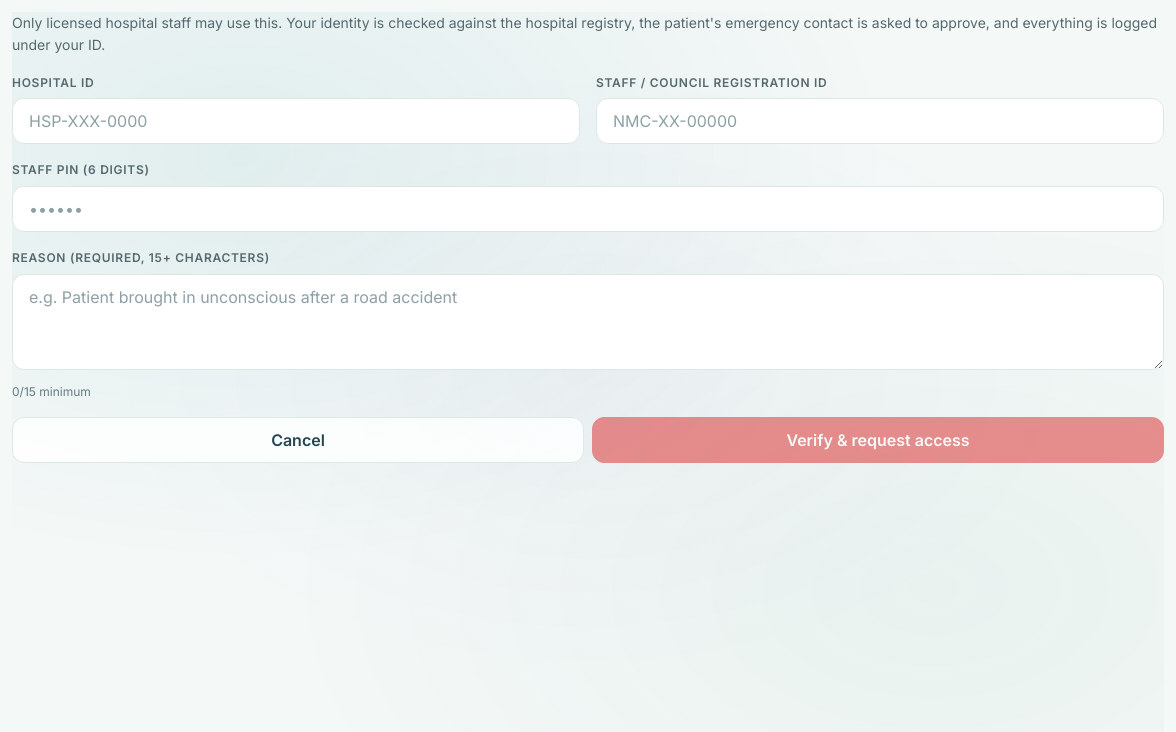
Test: Level 3 override panel › waits for the contact, then hands over the Level 3 session
This screenshot has width=1176, height=732.
Type "HSP-DEL-0001" into the field labelled "Hospital ID" at (296,121), box [12, 98, 580, 144]
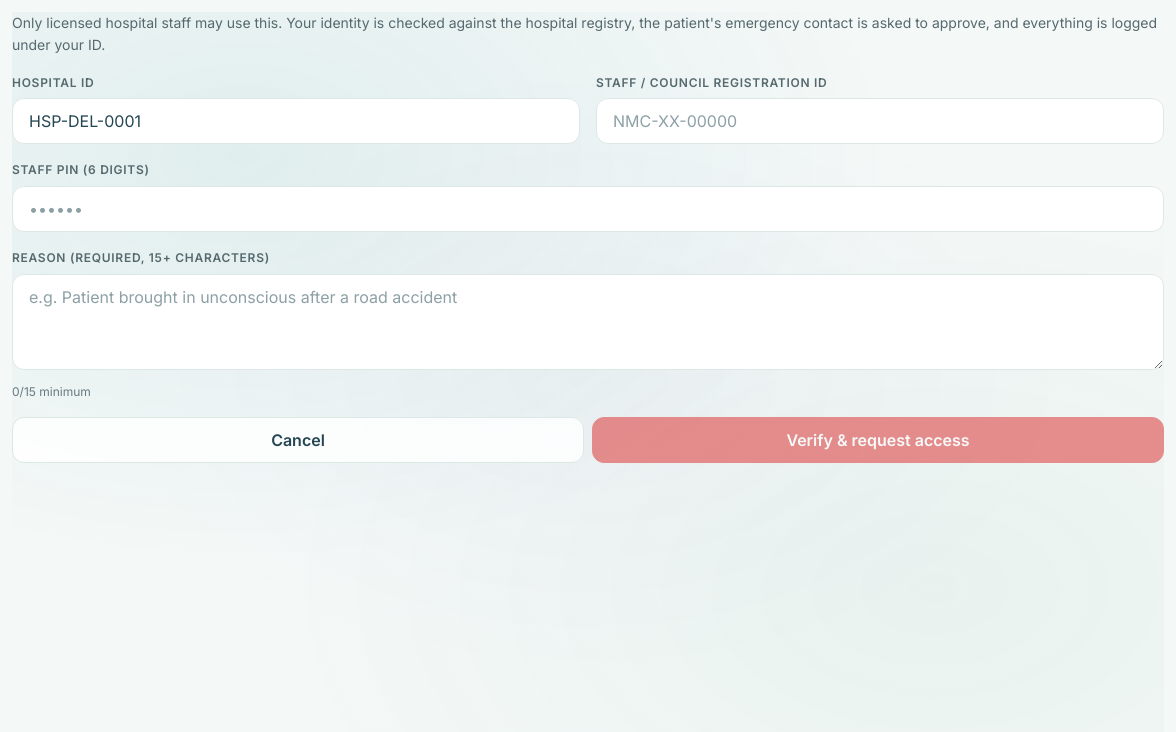
Type "NMC-DL-48213" into the field labelled "Staff / council registration ID" at (880,121), box [596, 98, 1164, 144]
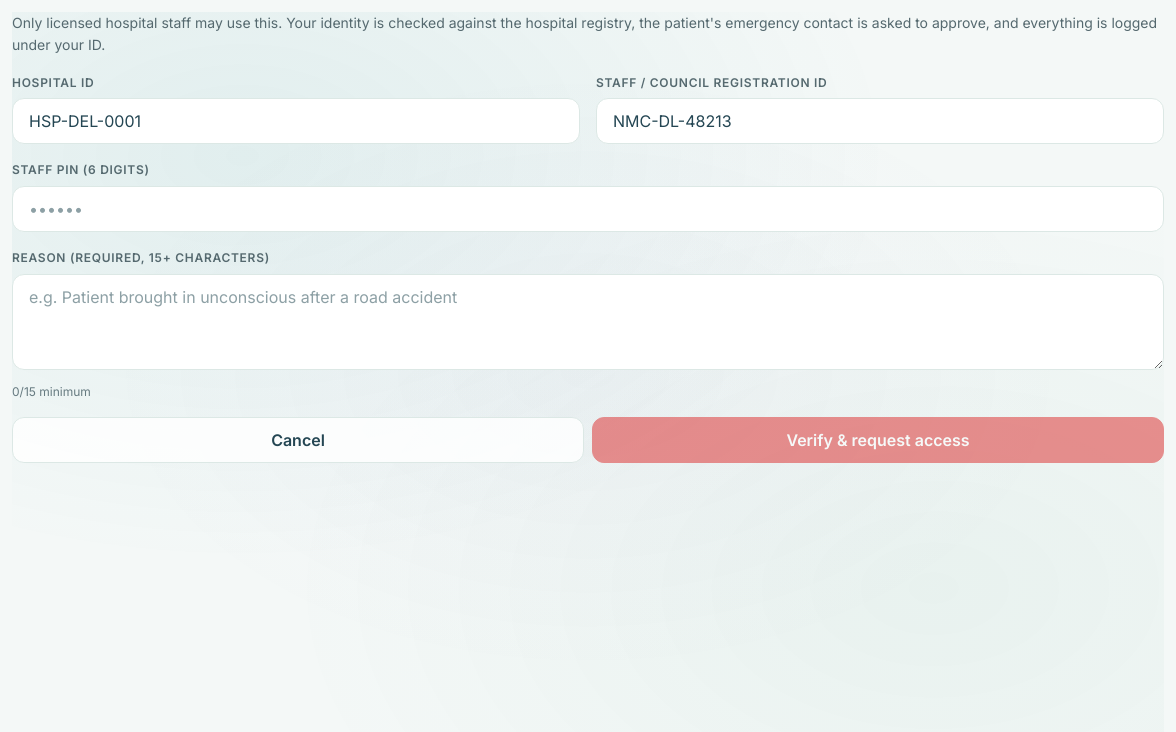
Type "482913" into the password field labelled "Staff PIN (6 digits)" at (588,209), box [12, 186, 1164, 232]
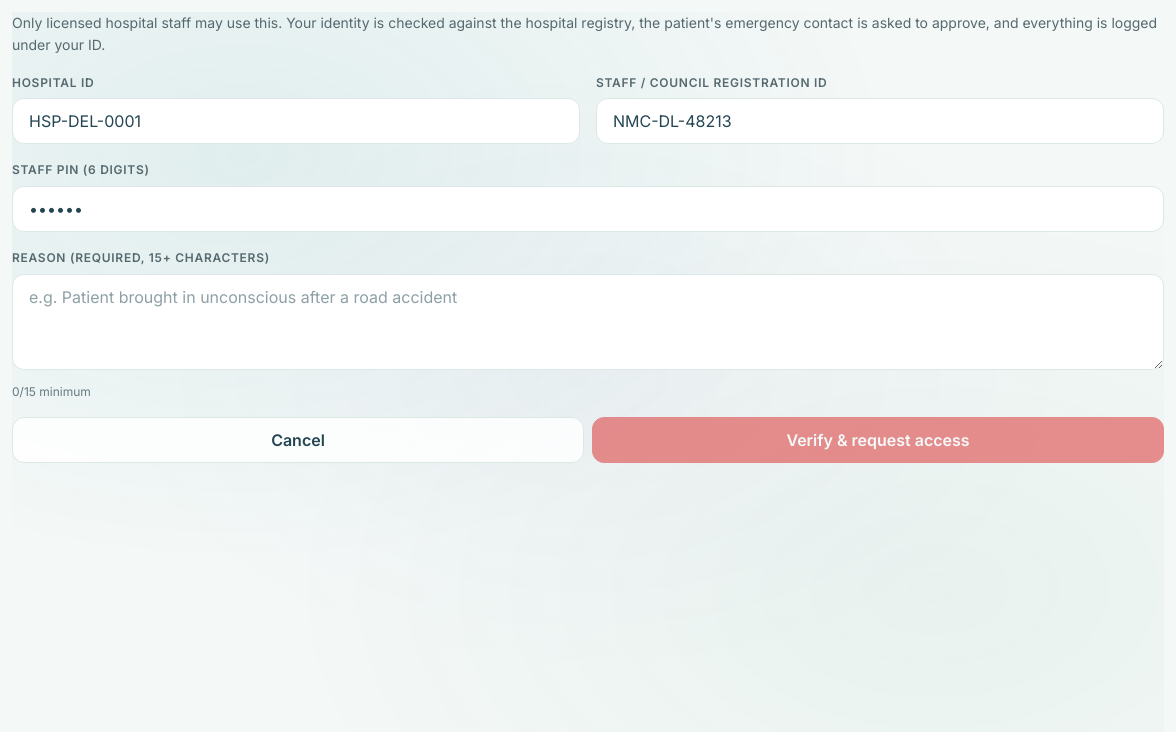
Type "Patient unconscious after road accident" into the text box labelled "Reason (required, 15+ characters)" at (588,322), box [12, 274, 1164, 370]
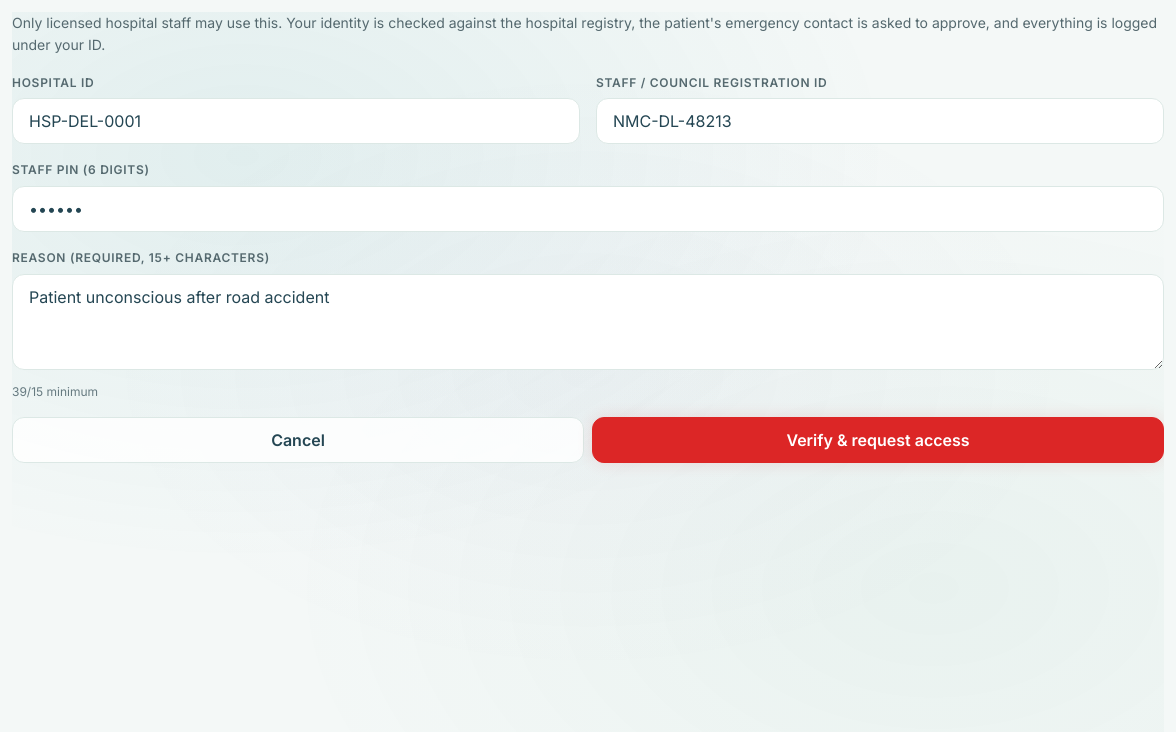
Click the button "Verify & request access" at (878,440), box [592, 417, 1164, 463]
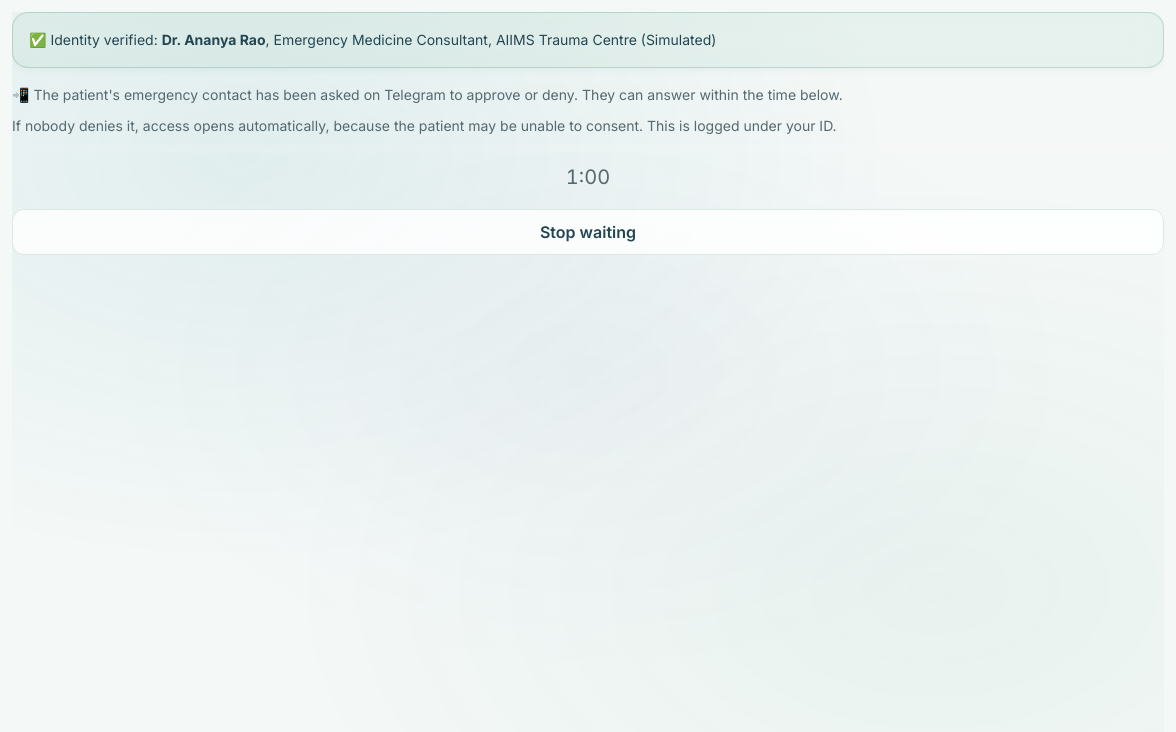
Expected: the text "Identity verified" shows "Dr. Ananya Rao", [162, 31, 265, 48]
Expected: the text "asked on Telegram" is shown, [12, 86, 578, 103]
